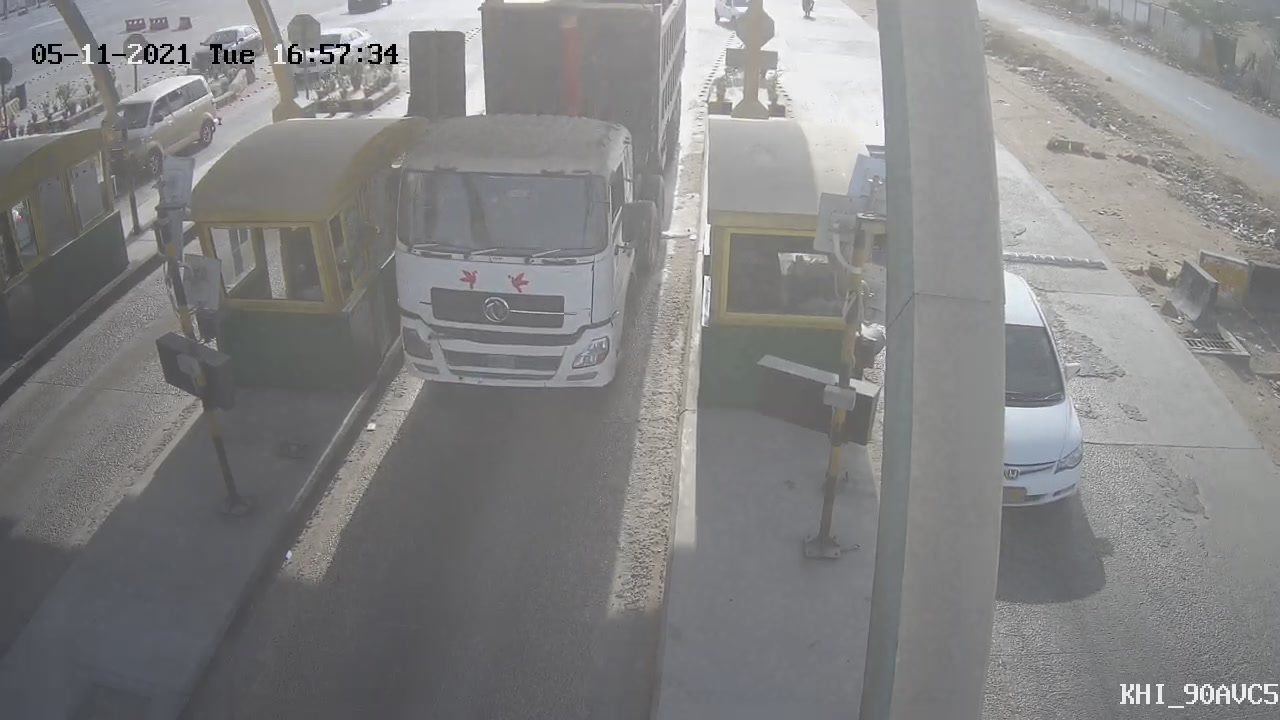F6: (338, 4, 711, 424)
